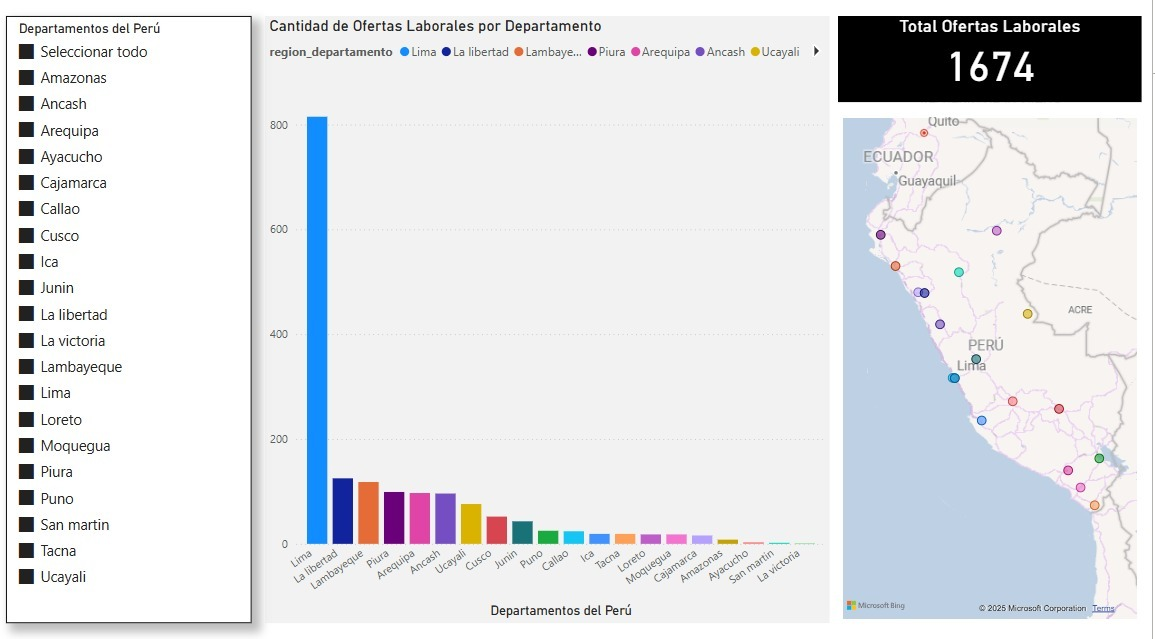

The page's visual inventory and layout, read from the dashboard file:
{"tool":"powerbi","page":{"name":"2","canvas":[1280,720],"ordinal":1},"visuals":[{"type":"slicer","fields":{"Values":["ofertas_final_parquet (2).region_departamento"]},"box":[15.4,25.1,270.8,669.9],"z":0},{"type":"columnChart","title":"Cantidad de Ofertas Laborales por Departamento","fields":{"Category":["ofertas_final_parquet (2).region_departamento"],"Y":["CountNonNull(ofertas_final_parquet (2).categoria_puesto)"],"Series":["ofertas_final_parquet (2).region_departamento"]},"box":[301.2,25.4,623.4,669.8],"z":1000},{"type":"azureMap","fields":{"Category":["ofertas_final_parquet (2).region_departamento"],"Series":["ofertas_final_parquet (2).region_departamento"]},"box":[933.9,112.9,335.4,298.2],"z":2000},{"type":"card","title":"Total Ofertas Laborales","fields":{"Values":["CountNonNull(ofertas_final_parquet (2).id_oferta)"]},"box":[933.9,25.6,335.4,78.8],"z":3000},{"type":"tableEx","fields":{"Values":["ofertas_final_parquet (2).categoria_puesto","ofertas_final_parquet (2).region_departamento","CountNonNull(ofertas_final_parquet (2).region_departamento)"]},"box":[941.4,420.6,328,274.7],"z":4000}]}

Visuals, with their boxes in screenshot pixels (x1, y1, x2, y2), scaled from the page's 1280x720 canvas onto the 1155x639 screenshot:
slicer - ofertas_final_parquet (2).region_departamento: select_region(14, 22, 258, 617)
"Cantidad de Ofertas Laborales por Departamento" columnChart: select_region(272, 23, 834, 617)
azureMap - ofertas_final_parquet (2).region_departamento x ofertas_final_parquet (2).region_departamento: select_region(843, 100, 1145, 365)
"Total Ofertas Laborales" card: select_region(843, 23, 1145, 93)
tableEx - ofertas_final_parquet (2).categoria_puesto x ofertas_final_parquet (2).region_departamento: select_region(849, 373, 1145, 617)
